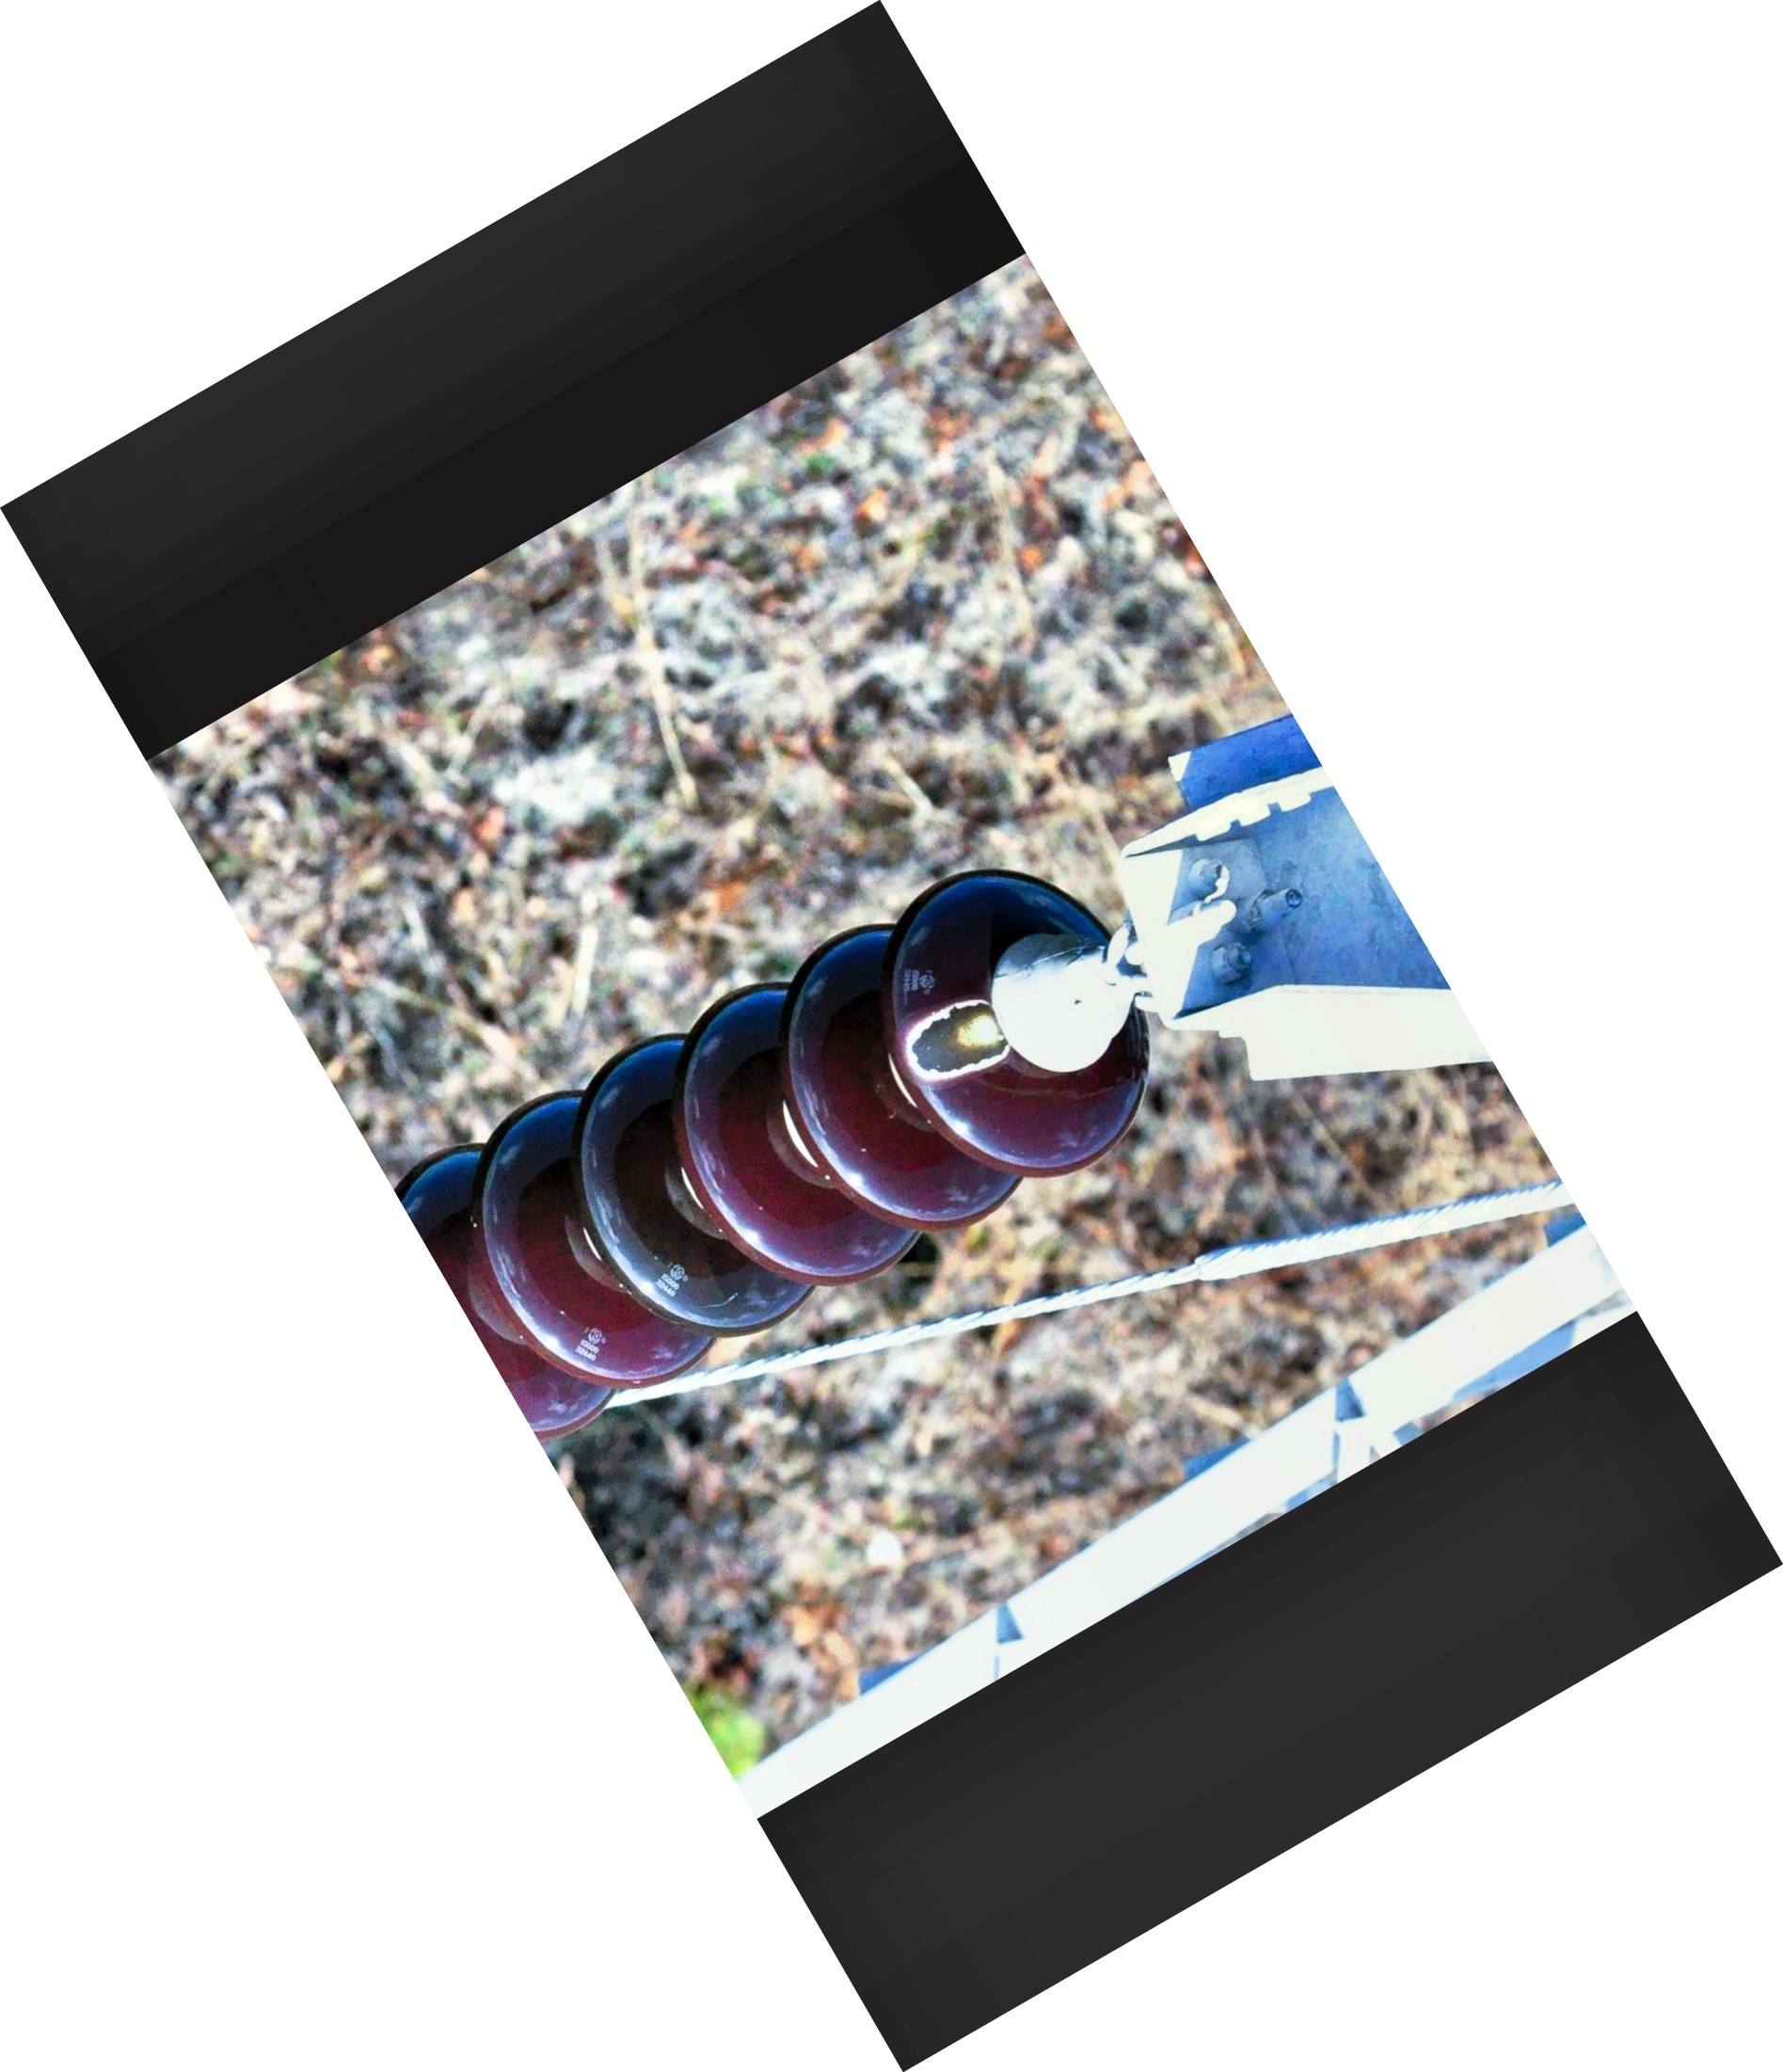Insulator flashover: (872, 858, 1158, 1196)
